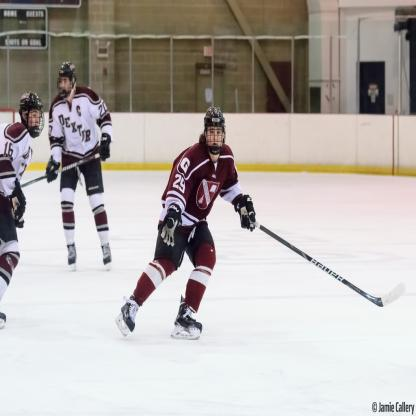Helmet: (11, 92, 39, 138), (202, 106, 228, 152), (57, 62, 78, 100)
